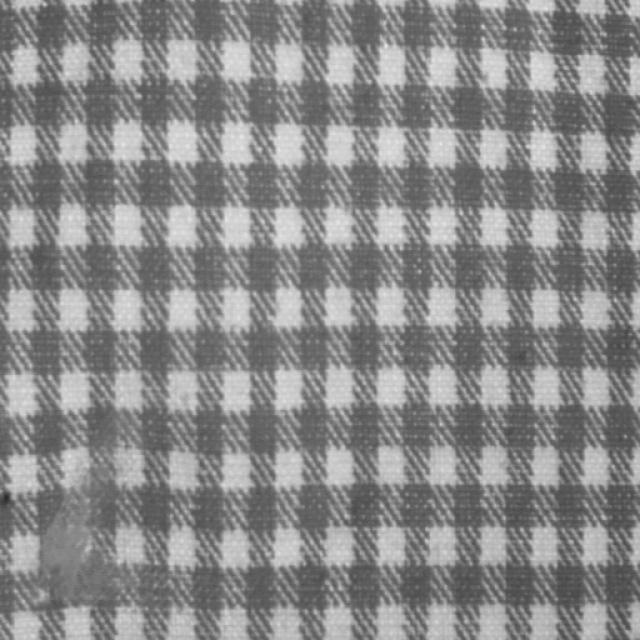Stain-Defect: (38, 491, 115, 604)
